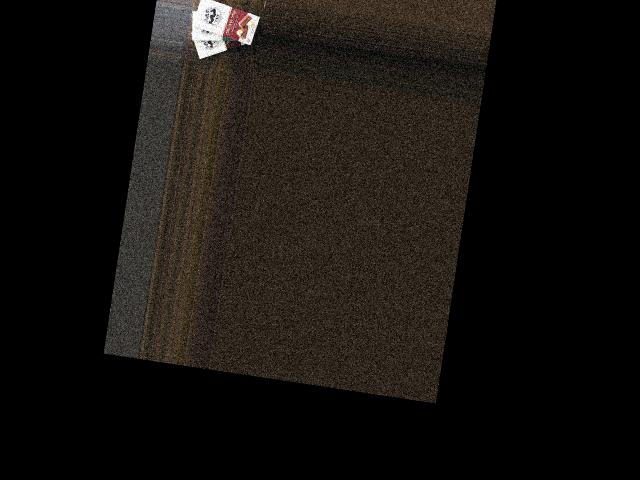chocolate: (185, 16, 258, 67)
